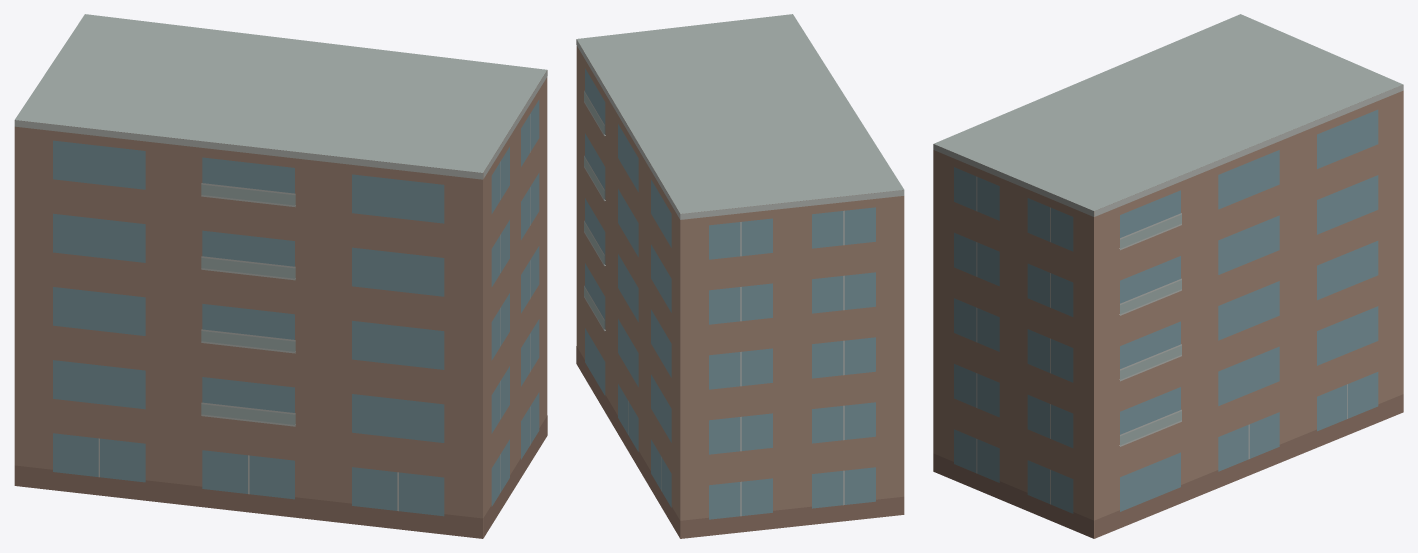
File: survey-upis-32594282.glb
3 views of the same model, side by side, from view 1: azimuth 30°, elevation 25°; view 2: azimuth 150°, elevation 25°; view 3: azimuth 270°, elevation 25° (orthographic). The views are drawn at different scales.
Visible parts, largest first — view 1: survey-upis-32594282.tmp; view 2: survey-upis-32594282.tmp; view 3: survey-upis-32594282.tmp.
Part boxes in pixels (box(x1,y1,x2,y2)): survey-upis-32594282.tmp: box(14, 14, 547, 538); survey-upis-32594282.tmp: box(576, 14, 904, 538); survey-upis-32594282.tmp: box(933, 14, 1403, 538).
Bounding box in the file's own units: 17.3 × 13.4 × 17.43.
